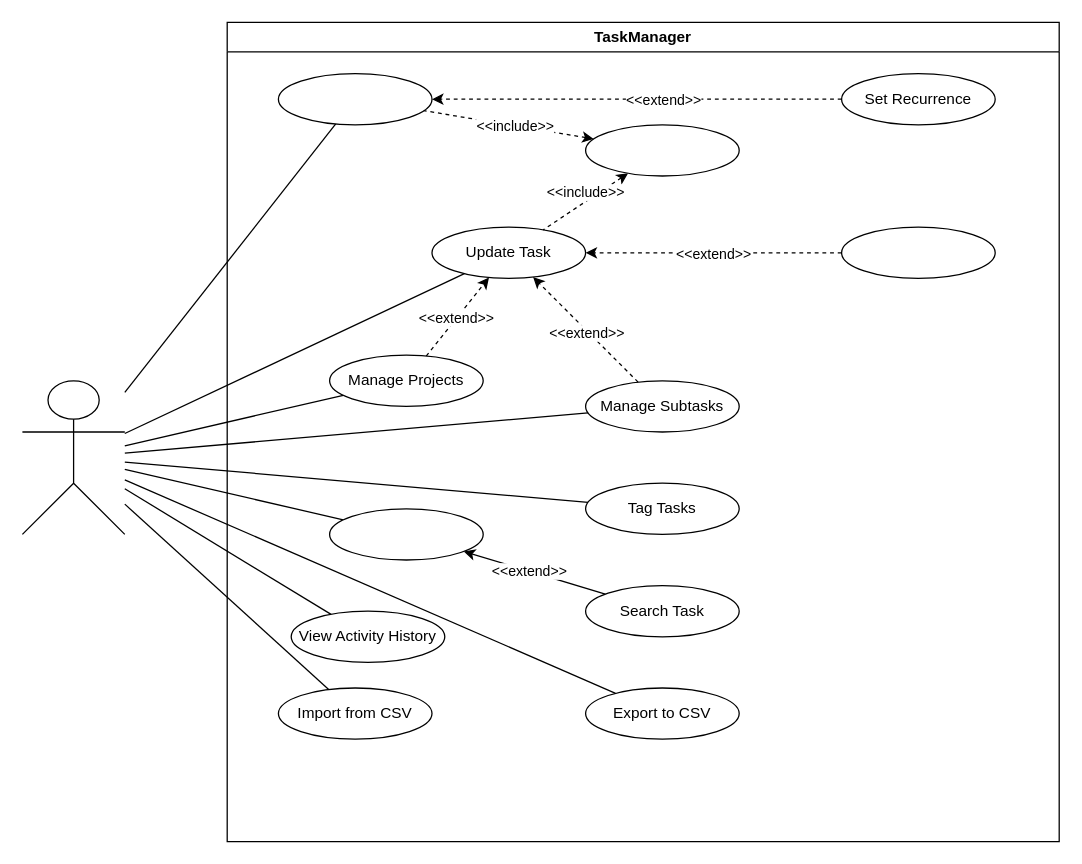
The diagram is 1082 pixels wide and 864 high, and some of its shapes have lost their labels. The box of each missing label's shape, as (x1, y1, x2, y2) in pixels:
Assign Collaborator: (840, 226, 995, 278)
Create Task: (277, 72, 432, 125)
Record Activity: (584, 124, 739, 176)
User: (21, 380, 125, 534)
View Tasks: (328, 508, 483, 560)
